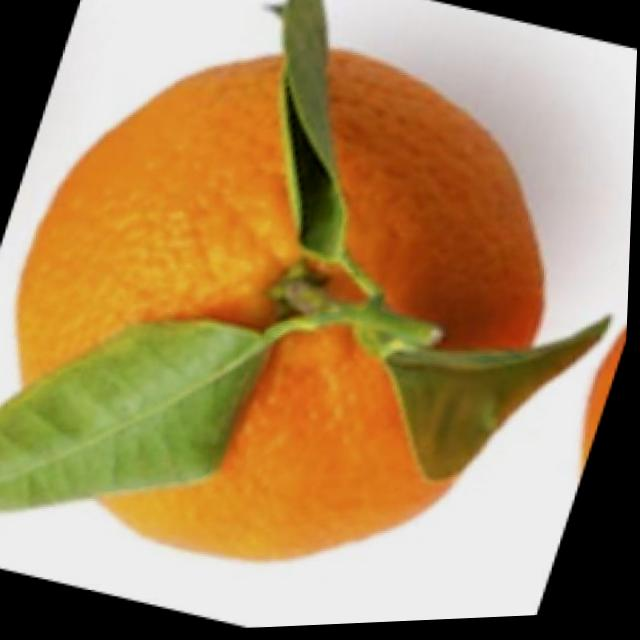Orange: (4, 38, 561, 585)
